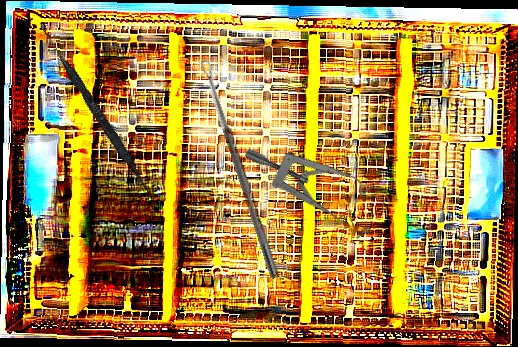Spatula Surgical: (33, 21, 160, 201)
Speculum: (241, 98, 400, 262)
Surgical Spoon: (200, 58, 281, 280)
